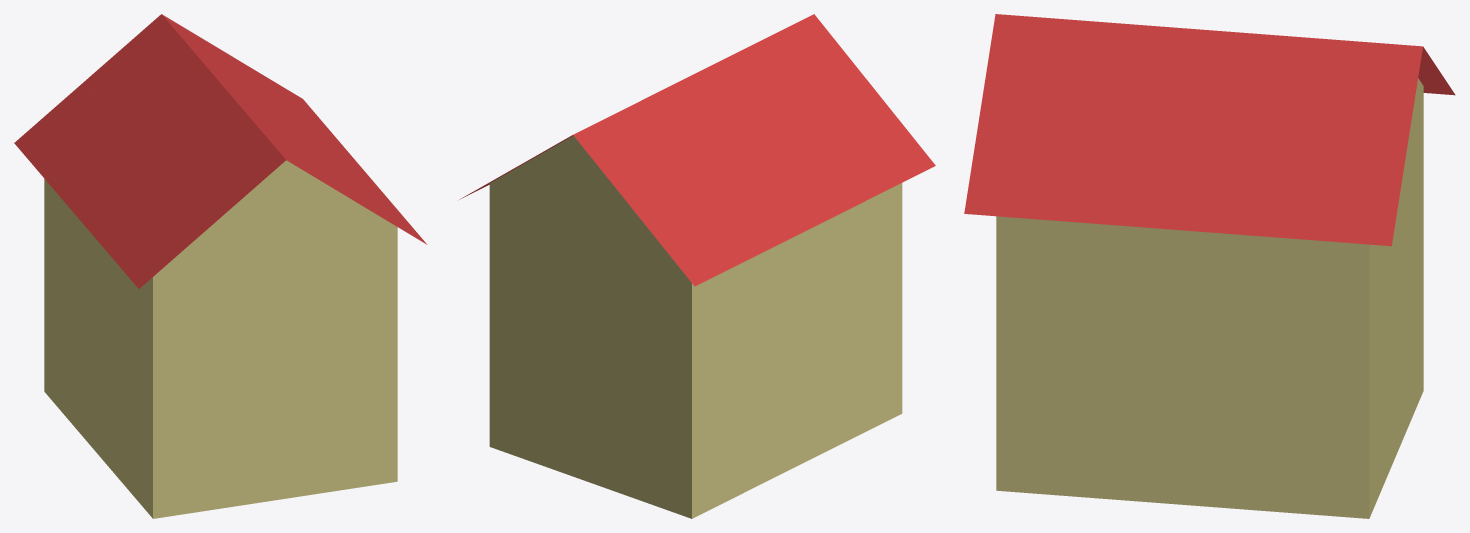
3 renders of one model, left to right at view 1: azimuth 30°, elevation 25°; view 2: azimuth 150°, elevation 25°; view 3: azimuth 270°, elevation 25°, orthographic. The views are drawn at different scales.
Bounding box in the file's own units: 11.71 × 13.27 × 12.28.
